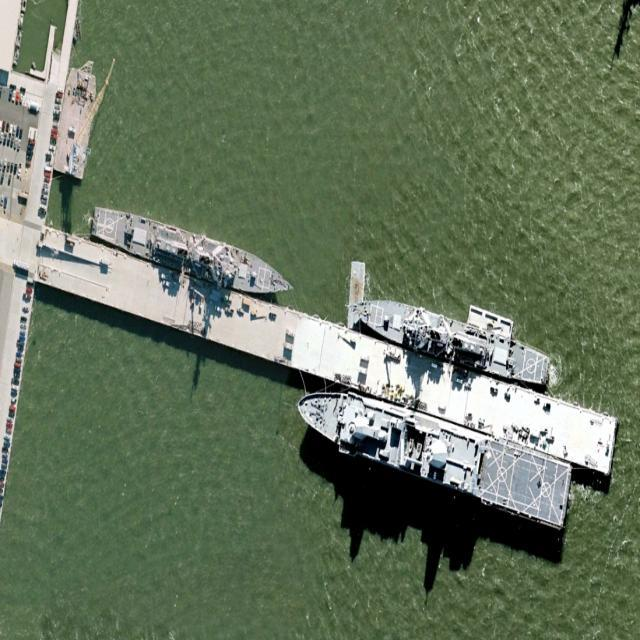Auxiliary Ships: (292, 368, 573, 532)
Destroyer: (345, 285, 553, 392), (89, 203, 297, 307)
